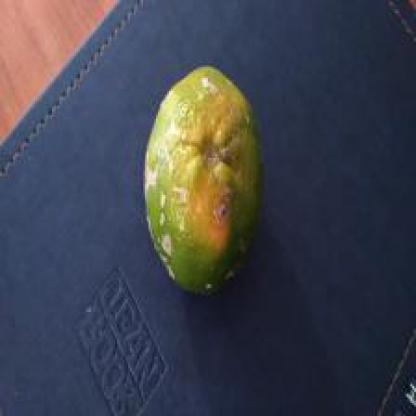orange_rotten: (124, 46, 330, 348)
